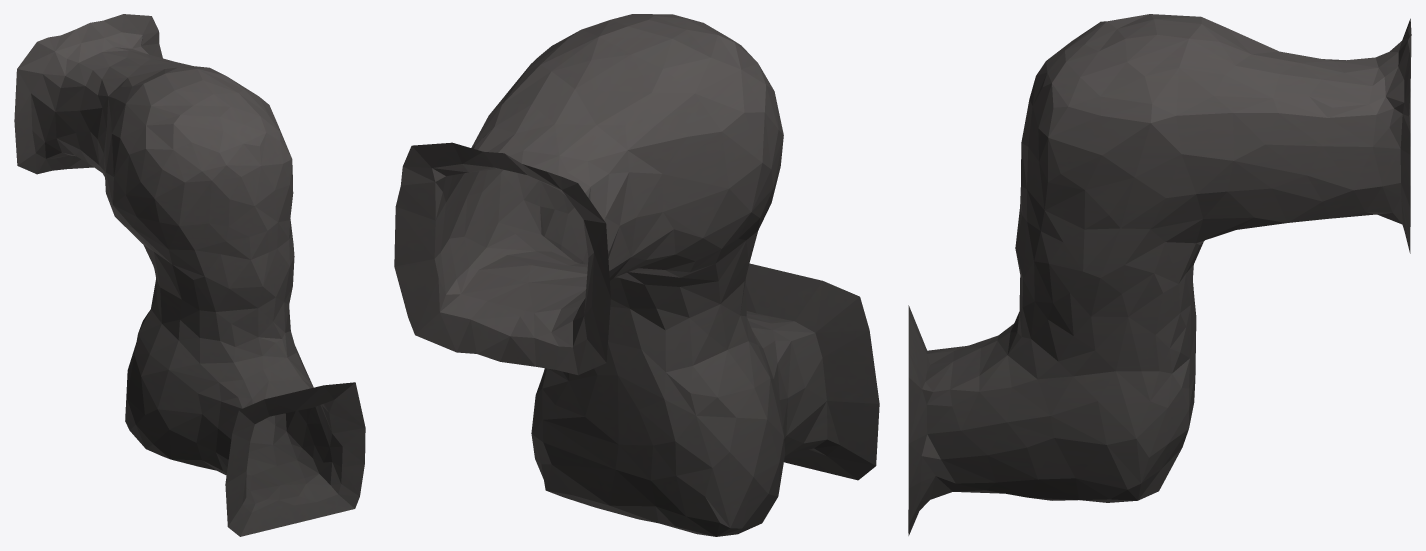
Rendered from ZLP_Cave_B_12.FBX.
The picture shows the model from 3 angles, left to right: view 1: azimuth 30°, elevation 25°; view 2: azimuth 150°, elevation 25°; view 3: azimuth 270°, elevation 25°; orthographic projection. The views are drawn at different scales.
Visible parts, largest first — view 1: ZLP_Cave_B_12; view 2: ZLP_Cave_B_12; view 3: ZLP_Cave_B_12.
Part boxes in pixels (left/top/right/bottom): ZLP_Cave_B_12: left=14, top=14, right=365, bottom=536; ZLP_Cave_B_12: left=394, top=14, right=879, bottom=536; ZLP_Cave_B_12: left=908, top=14, right=1411, bottom=535.
Size of the model in its own units: 721 by 1572 by 1527.
